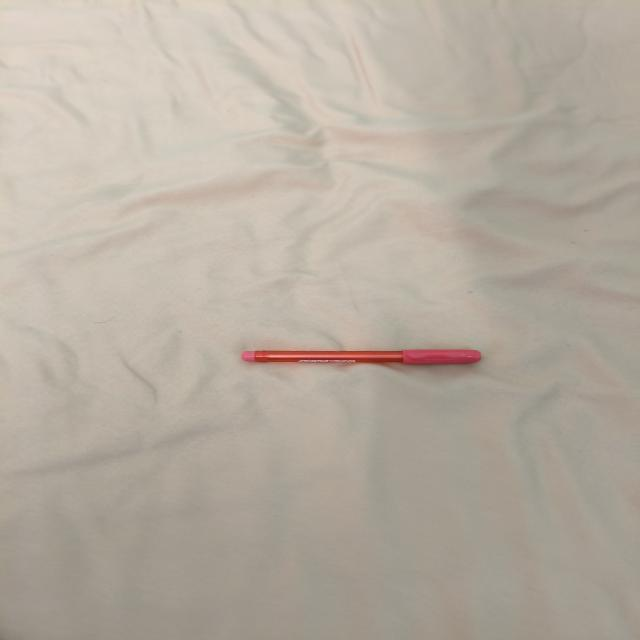pen: (241, 349, 481, 365)
